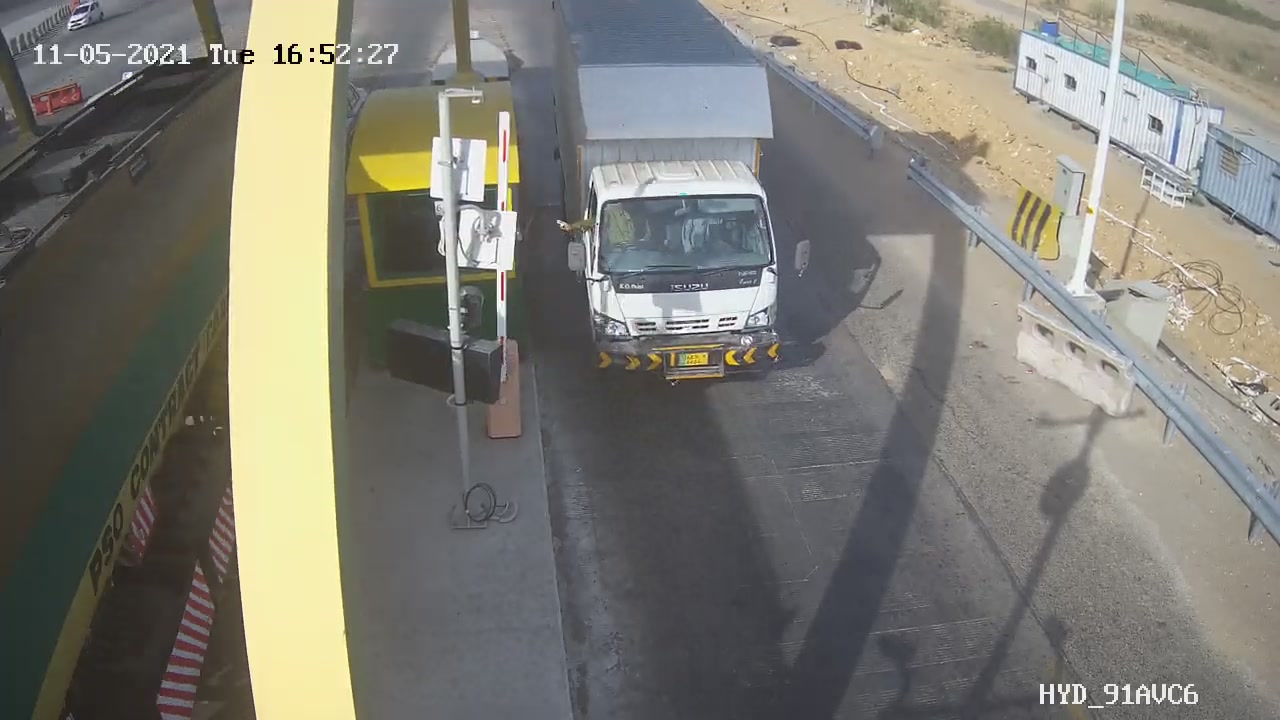F5: (526, 4, 842, 416)
